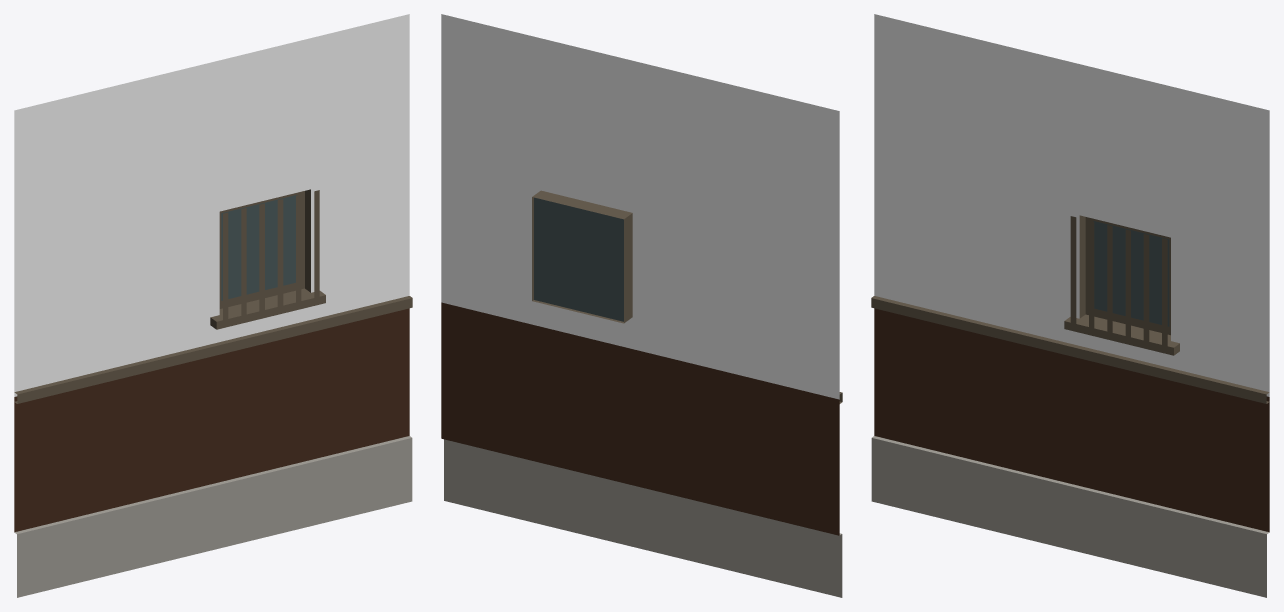
3 views of the same model, side by side, from view 1: azimuth 30°, elevation 25°; view 2: azimuth 150°, elevation 25°; view 3: azimuth 330°, elevation 25° (orthographic).
Parts seen in each view (by area): view 1: a2015/800/base-w4; view 2: a2015/800/base-w4; view 3: a2015/800/base-w4.
Part boxes in pixels (x1,y1,x2,y2): a2015/800/base-w4: [14, 14, 412, 597]; a2015/800/base-w4: [441, 14, 842, 597]; a2015/800/base-w4: [871, 14, 1269, 597].
Bounding box in the file's own units: 2.6 × 3.05 × 0.17.
